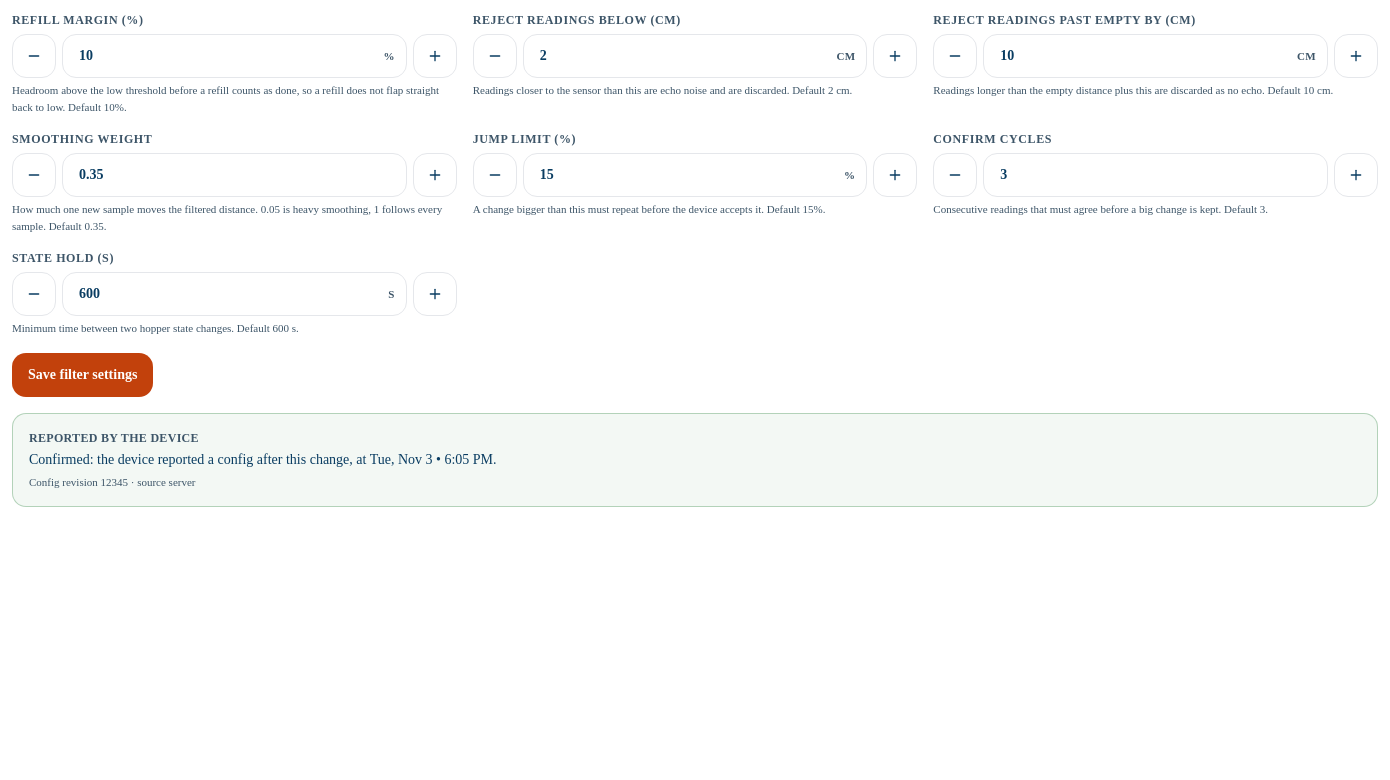
Scenario: HopperFilterForm › saves all seven values through the action
The width and height of the screenshot is (1390, 780).
Replace the text in the number field labelled "Confirm cycles" with "5" at x=1156, y=175, box [983,153,1328,197]
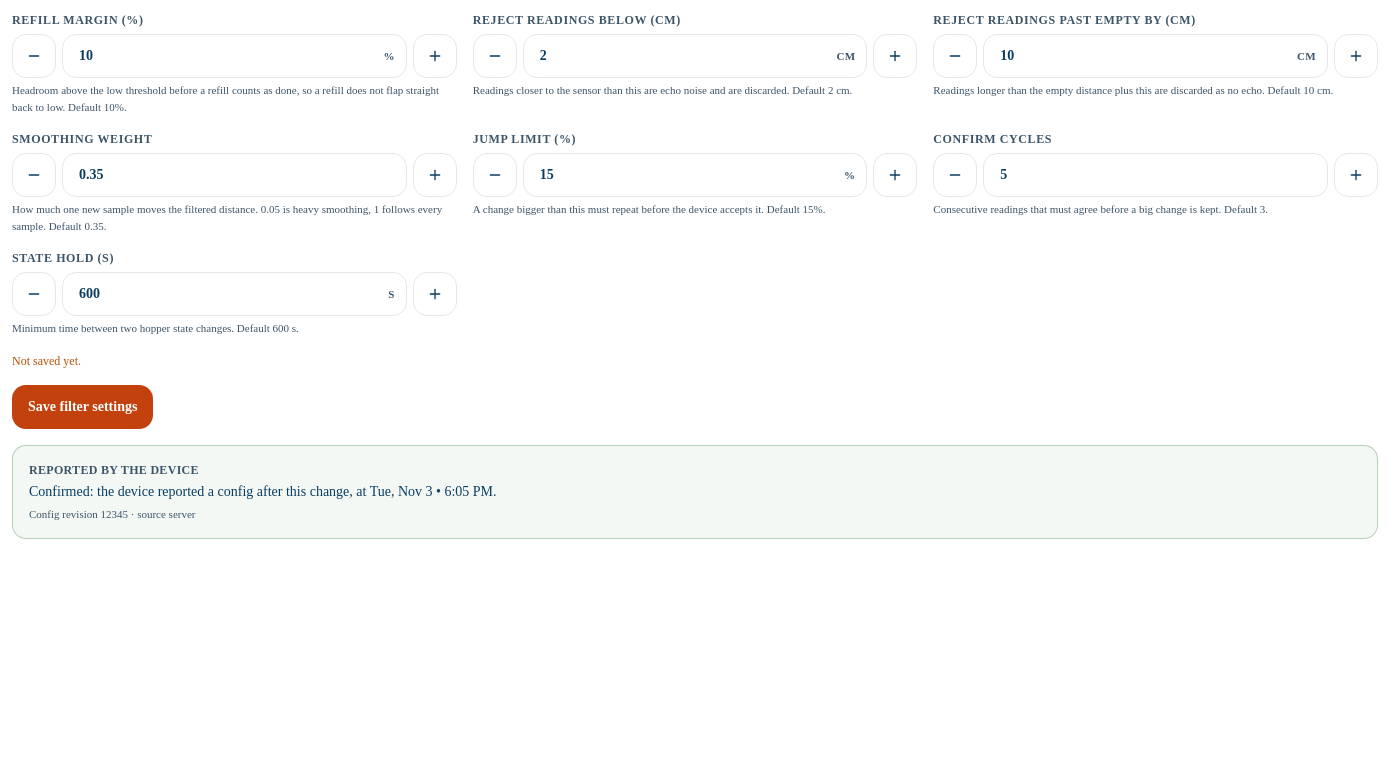
Click the button "Save filter settings" at x=83, y=406, box [12,384,153,428]
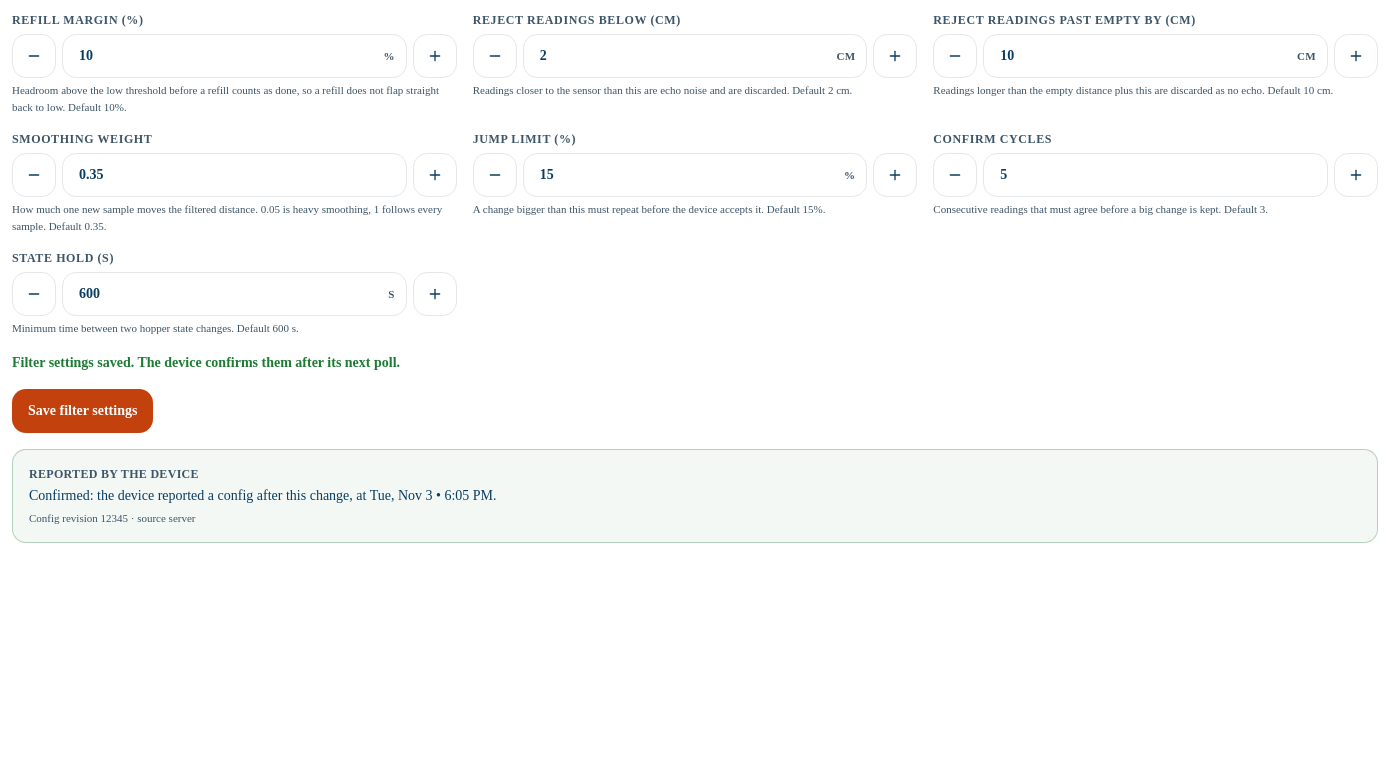
Check: the text "Filter settings saved" is shown, box [12,354,400,370]
